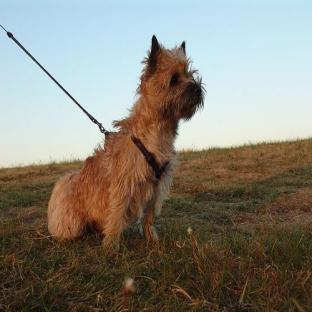Animal: (48, 35, 204, 245)
